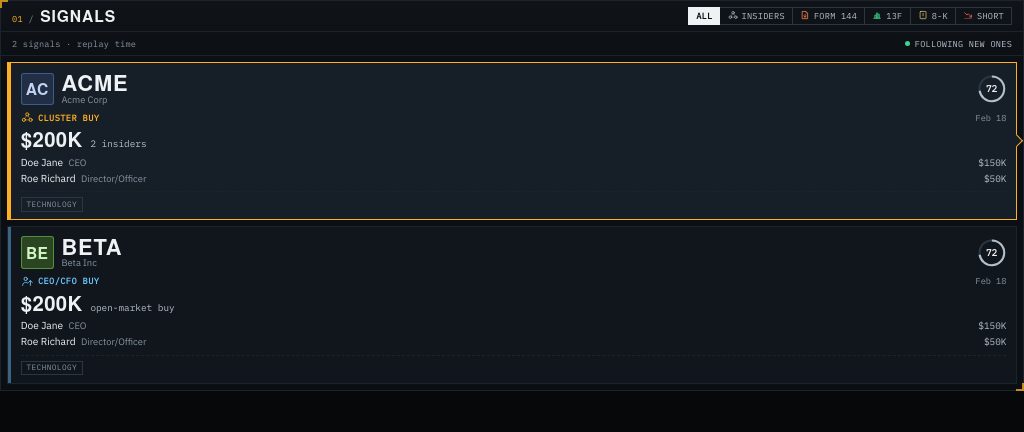
SignalFeed › lists the signals, filters by type and selects on click
Expected: the number of list items is 2, top-left (7, 62), bottom-right (1017, 220); top-left (7, 226), bottom-right (1017, 384)
Expected: the text "2 signals · replay time" is shown, top-left (12, 38), bottom-right (136, 50)
Click the button "Insiders".
click(756, 16)  # box top-left (720, 7), bottom-right (793, 26)
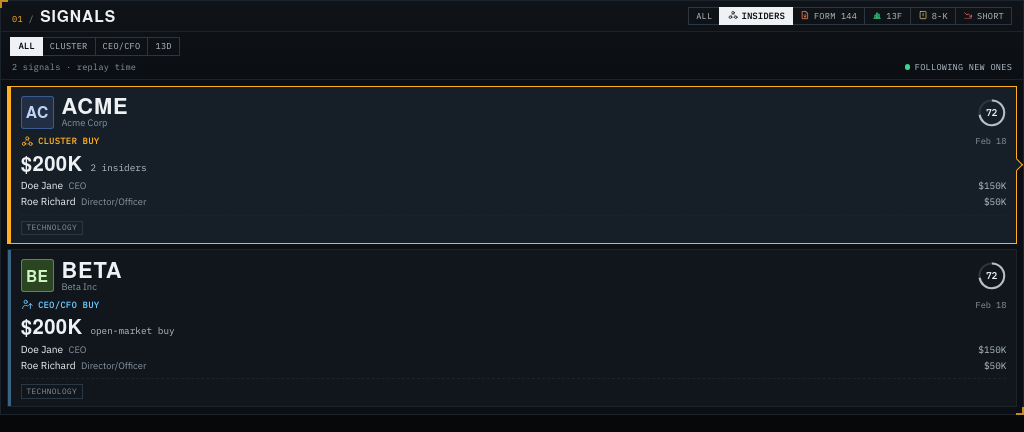
Click the button "CEO/CFO".
click(122, 46)  # box top-left (95, 37), bottom-right (148, 56)
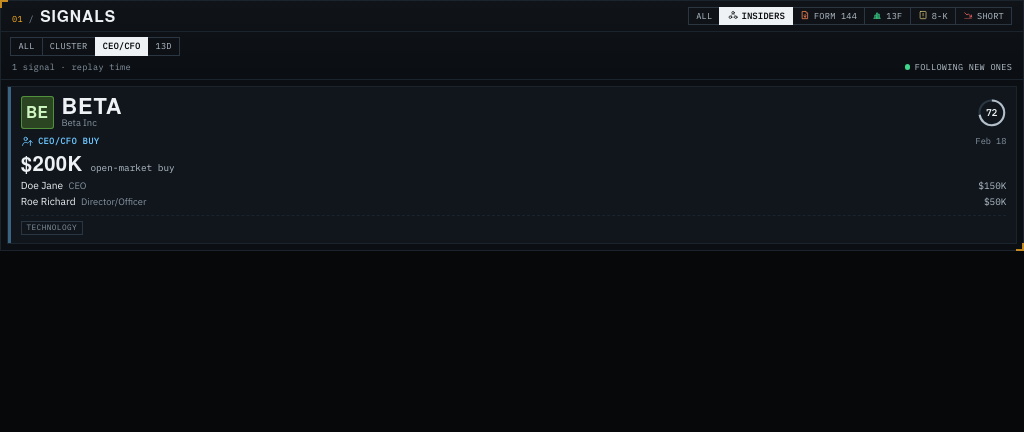
Now the number of list items is 1, box top-left (7, 86), bottom-right (1017, 244)
Click the text "BETA".
click(92, 106)  # box top-left (61, 90), bottom-right (123, 122)
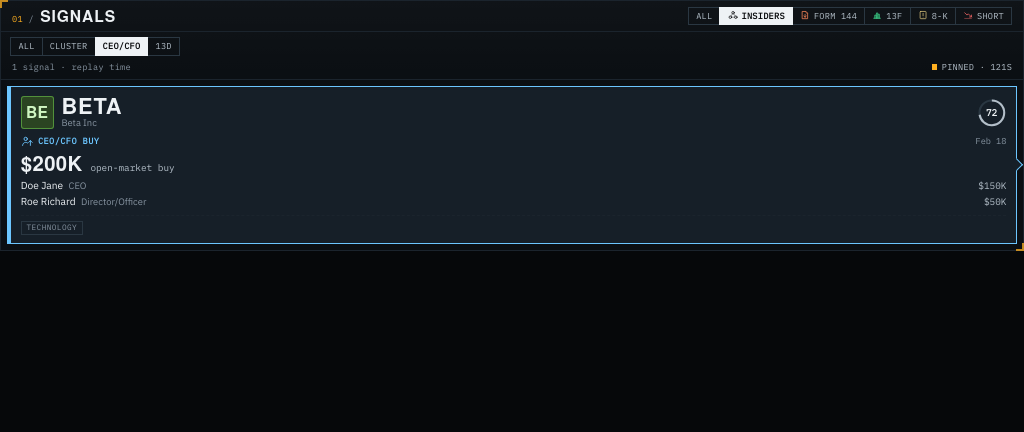
Click the button "13D".
click(164, 46)  # box top-left (148, 37), bottom-right (180, 56)
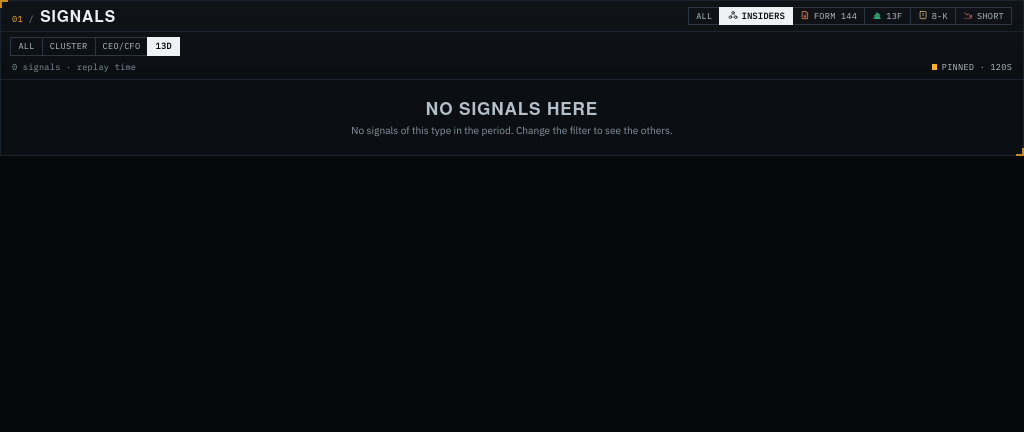
Now the text "No signals here" is shown, box top-left (426, 96), bottom-right (598, 120)
